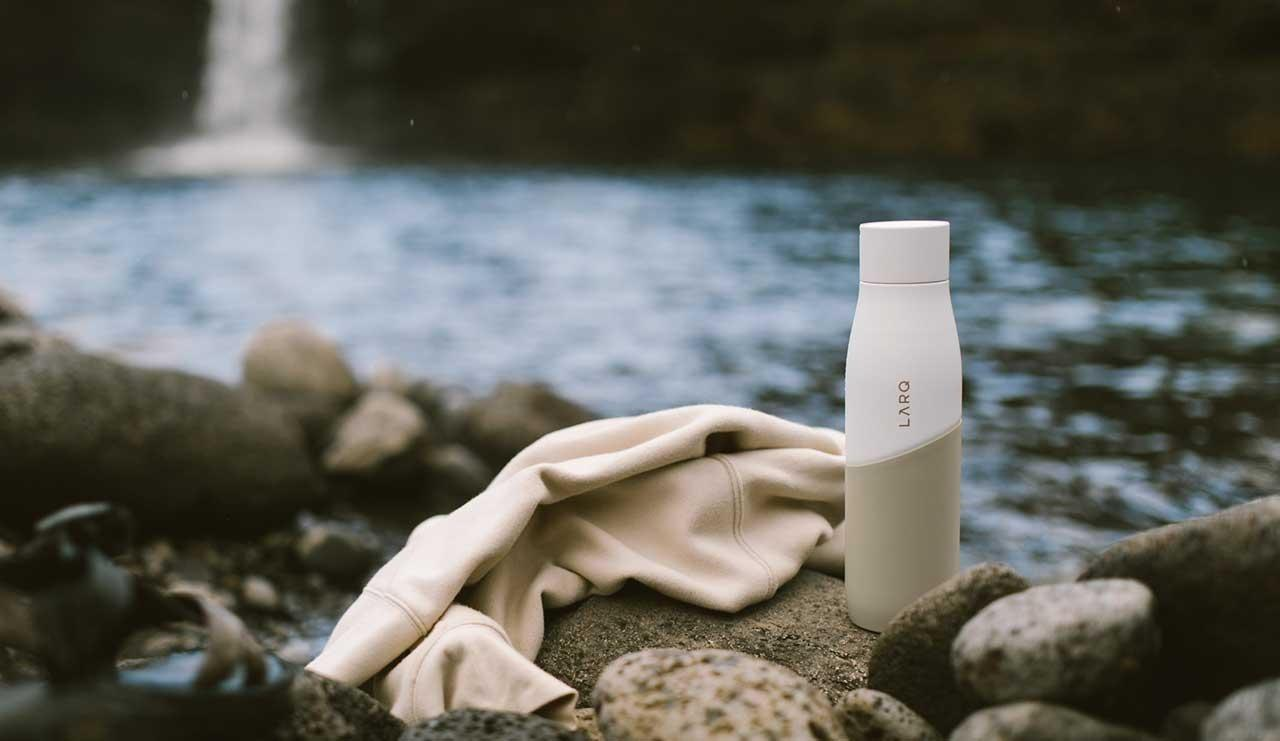gym bottle: (839, 216, 969, 632)
